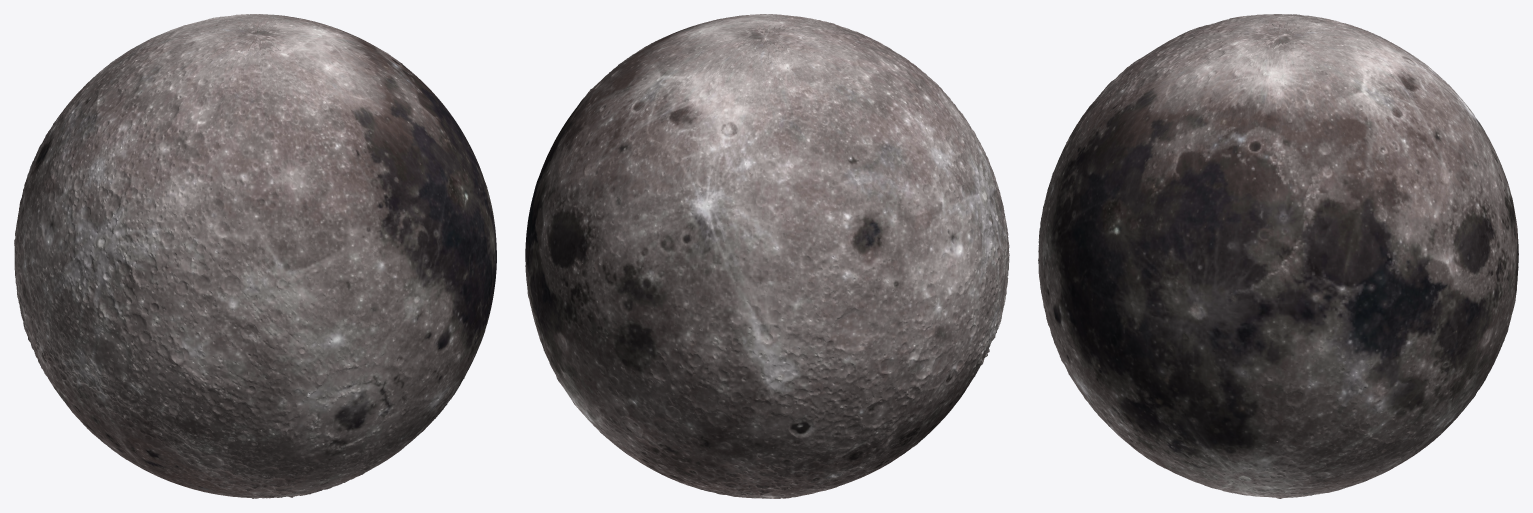
File: moon_lro_hd.glb
The picture shows the model from 3 angles, left to right: view 1: azimuth 30°, elevation 25°; view 2: azimuth 150°, elevation 25°; view 3: azimuth 270°, elevation 25°; orthographic projection.
Parts seen in each view (by area): view 1: Sphere; view 2: Sphere; view 3: Sphere.
Boxes of the visible parts, box(x1,y1,x2,y2) form: Sphere: box(14, 14, 496, 498); Sphere: box(525, 14, 1009, 498); Sphere: box(1038, 14, 1518, 498).
Size of the model in its own units: 1.93 by 1.94 by 1.92.
1 material, 1 textured.
